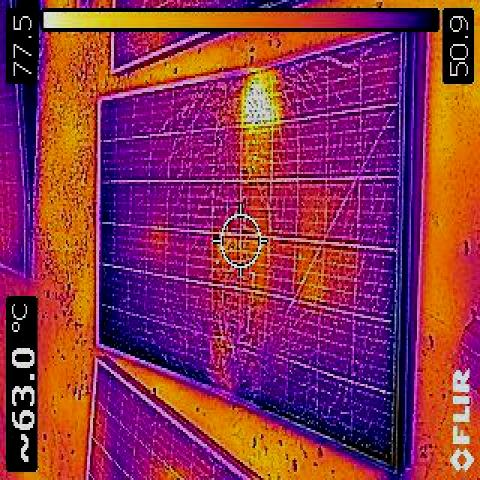fault: (244, 77, 274, 125)
